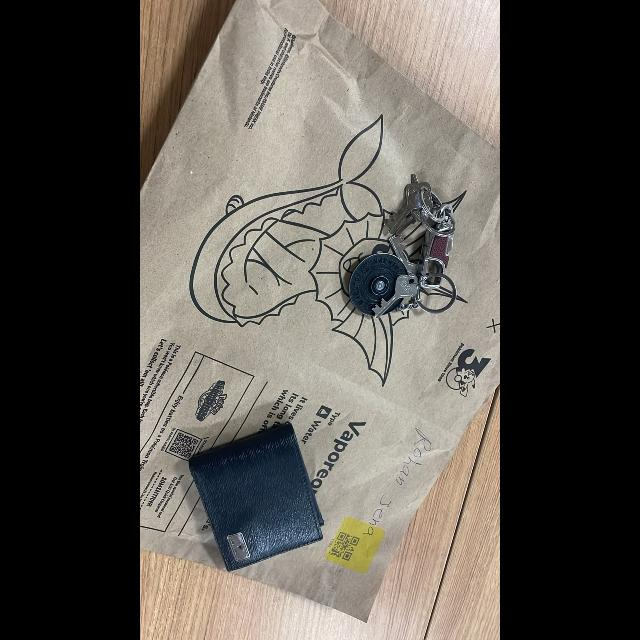keys: (329, 168, 473, 334)
wallet: (182, 414, 336, 582)
